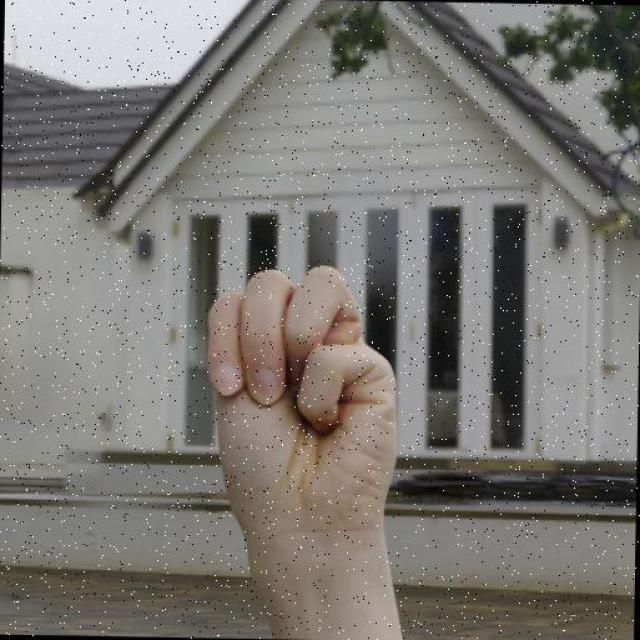M: (200, 257, 404, 535)
